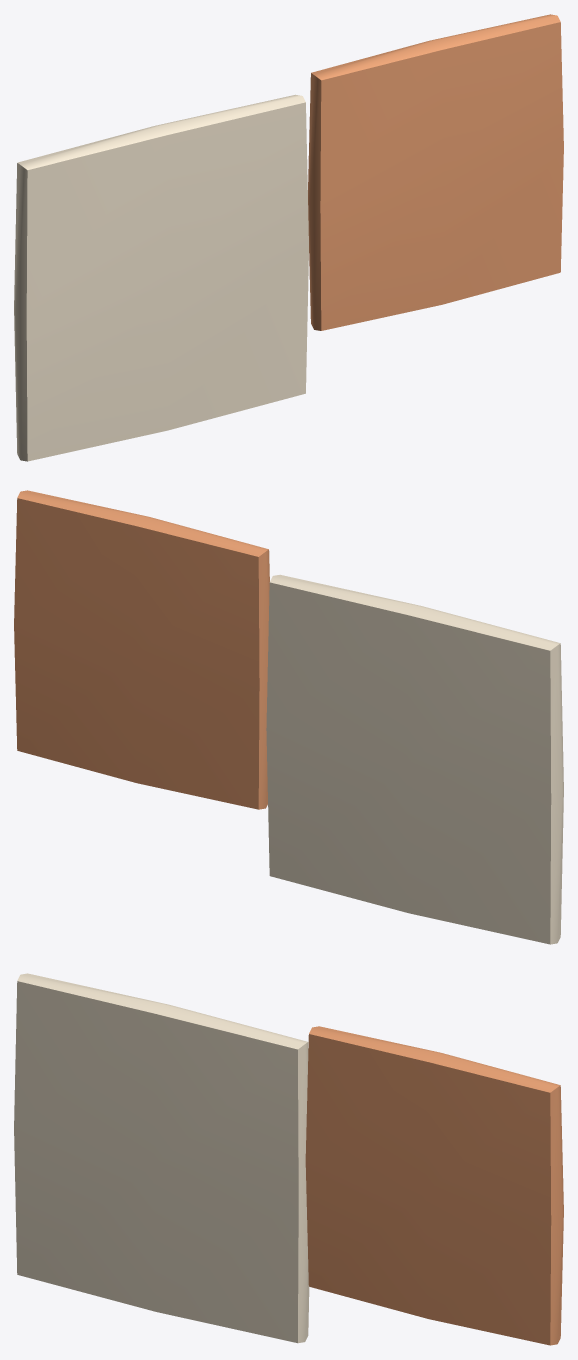
File: sticky-notes.glb
The picture shows the model from 3 angles, top to bottom: view 1: azimuth 30°, elevation 25°; view 2: azimuth 150°, elevation 25°; view 3: azimuth 330°, elevation 25°; orthographic projection.
Parts seen in each view (by area): view 1: part (×2); view 2: part (×2); view 3: part (×2).
Boxes of the visible parts, x1,y1,x2,y2 form: part (×2): (14, 14, 563, 461); part (×2): (14, 490, 563, 944); part (×2): (14, 973, 563, 1345).
Size of the model in its own units: 0.14 by 0.08 by 0.009.
1 material, 1 textured.
